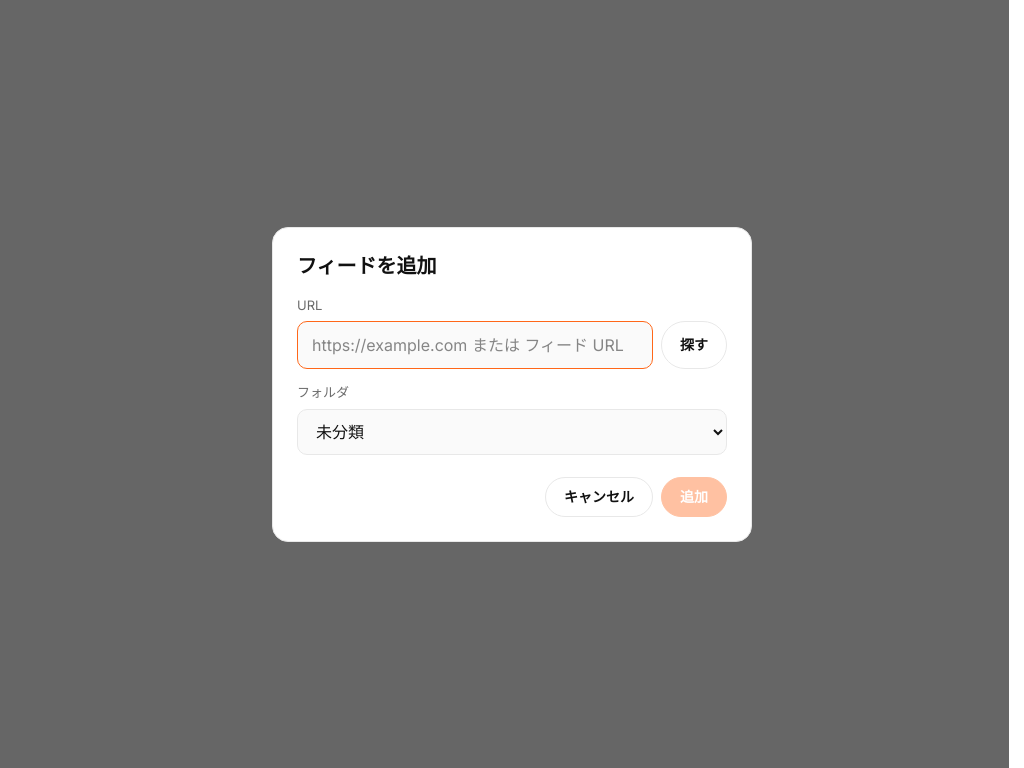
Scenario: AddFeedModal › shows a message when nothing is found
The image size is (1024, 768).
Type "https://x.test" into the field with placeholder "https://example.com または フィード URL" at (475, 345), box top-left (297, 321), bottom-right (653, 369)
Then press Enter
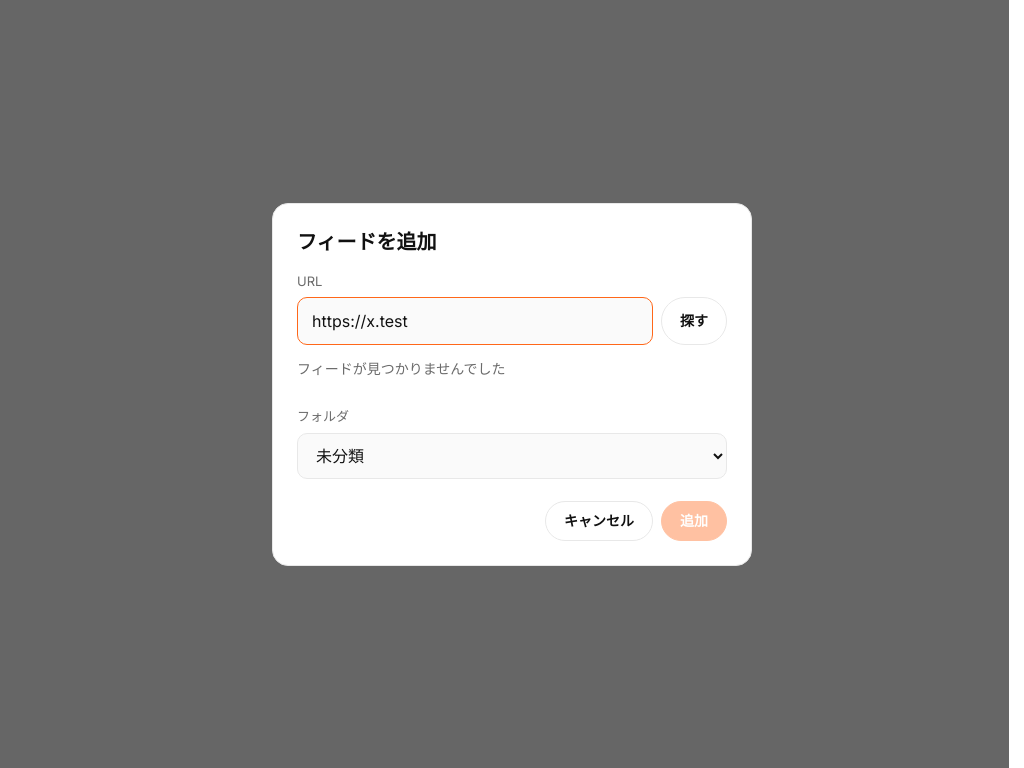
Now the text "フィードが見つかりませんでした" is shown, box top-left (297, 360), bottom-right (506, 377)
